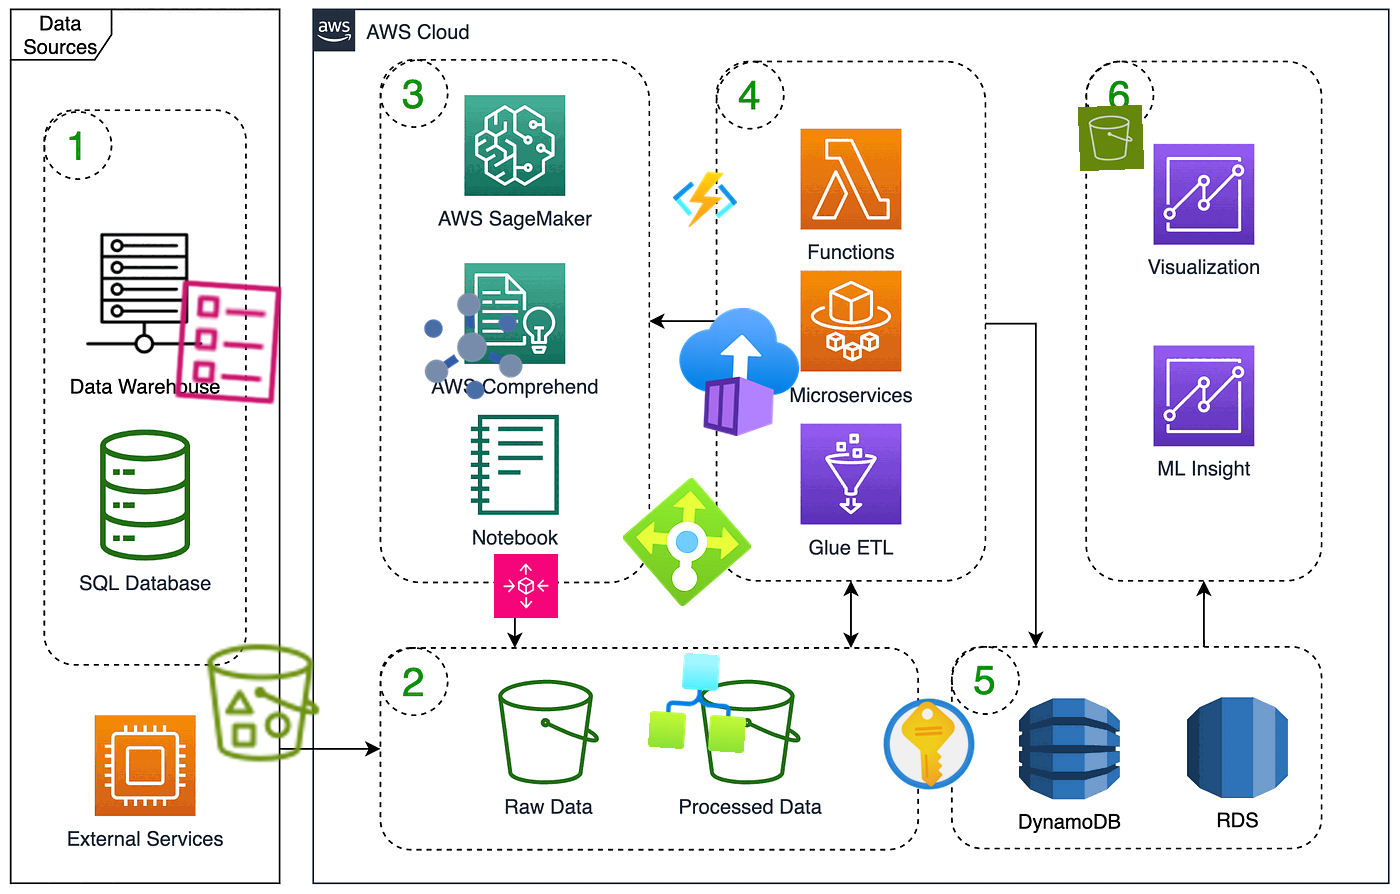aws_amazon_simple_storage_service: (1077, 104, 1145, 172)
aws_auto_scaling: (493, 553, 559, 619)
aws_cloudformation_template: (158, 274, 296, 411)
aws_simple_storage_service_bucket_with_objects: (198, 638, 328, 768)
azure_container_instances: (672, 305, 806, 439)
azure_function_apps: (670, 165, 740, 235)
azure_key_vaults: (878, 693, 980, 795)
azure_load_balancers: (618, 473, 756, 611)
azure_logic_apps: (647, 650, 751, 754)
gcp_pubsub: (403, 277, 541, 415)
